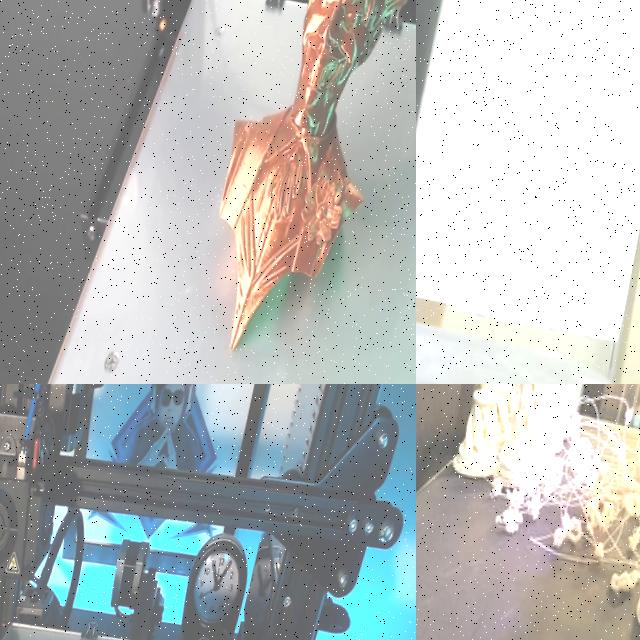spaghetti: (527, 409, 640, 576), (488, 509, 523, 545), (500, 477, 525, 507), (523, 494, 543, 524), (486, 476, 508, 500)
